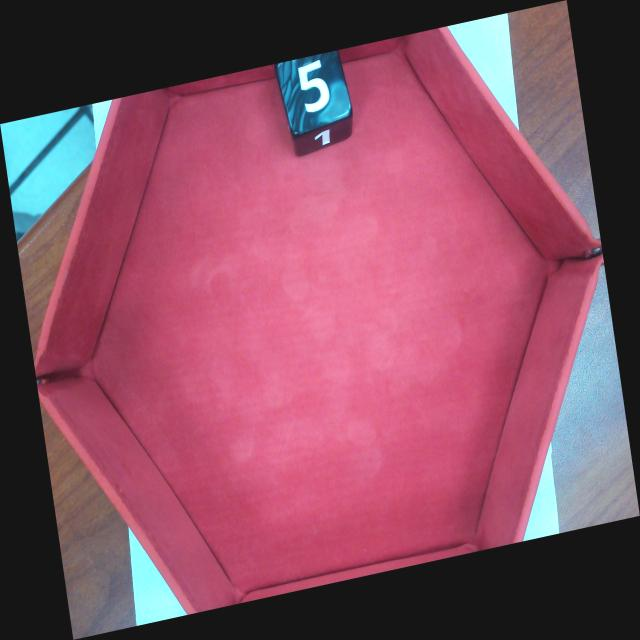dice: (277, 46, 351, 134)
